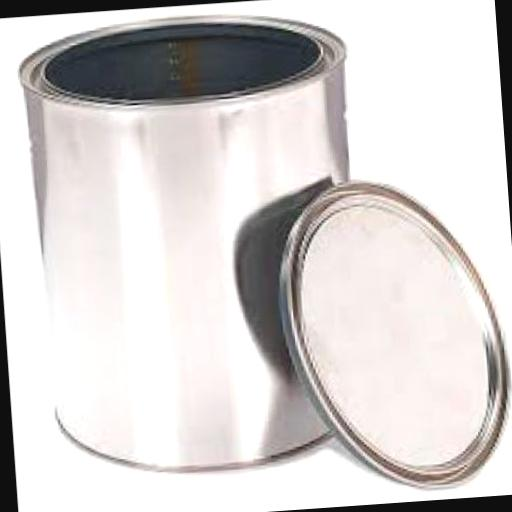metal: (22, 0, 373, 477), (273, 168, 512, 498)
